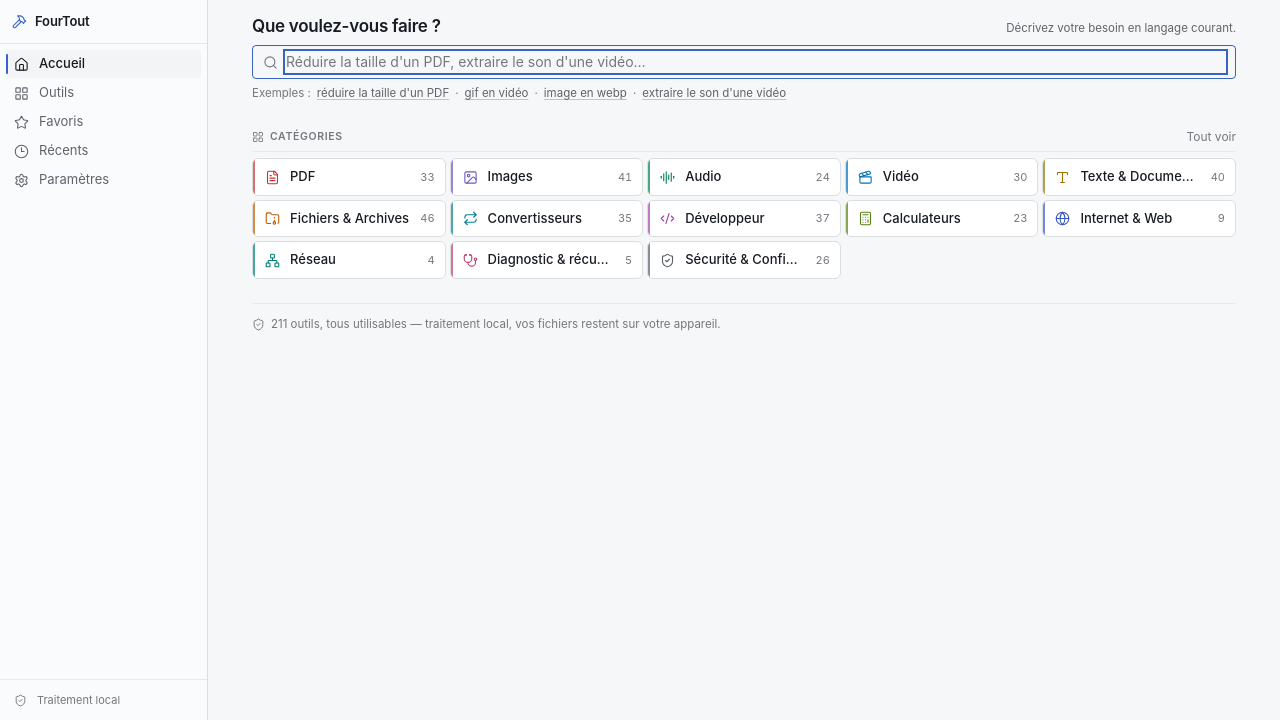
assistant d'accueil › n'invente rien quand l'outil n'existe pas
Type "envoyer un fax à ma banque" into the field with test id "home-intent-input" at (756, 62), box 286,52 -> 1225,72
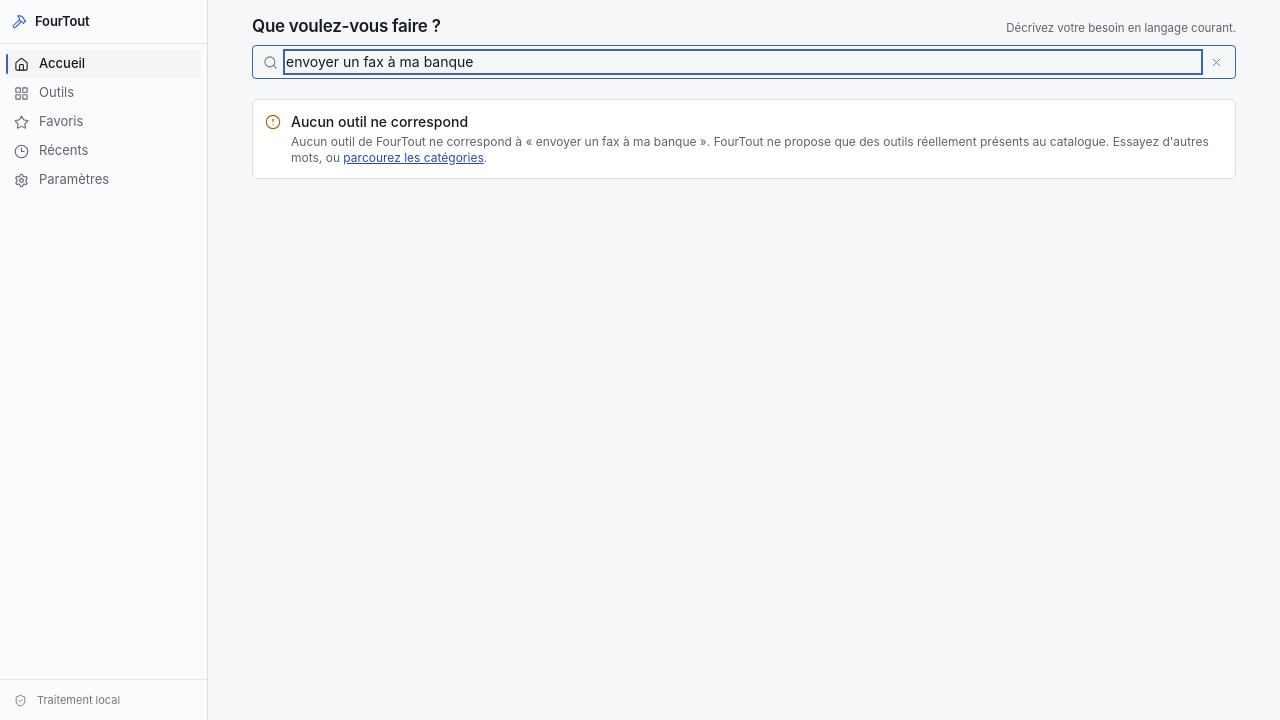
Expected: the text "Aucun outil ne correspond" is shown, 291,113 -> 468,130
